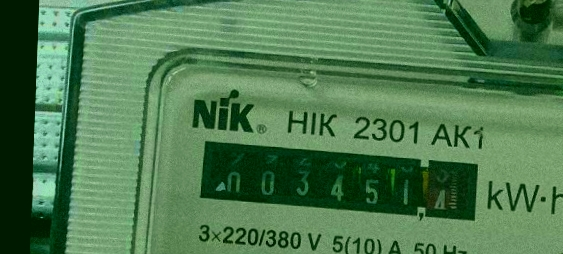0: (257, 167, 277, 196), (222, 166, 243, 193)
1: (397, 174, 414, 206)
3: (292, 165, 312, 197)
4: (326, 171, 347, 203), (428, 185, 449, 213)
5: (362, 174, 380, 206)
screen: (192, 135, 484, 228)
